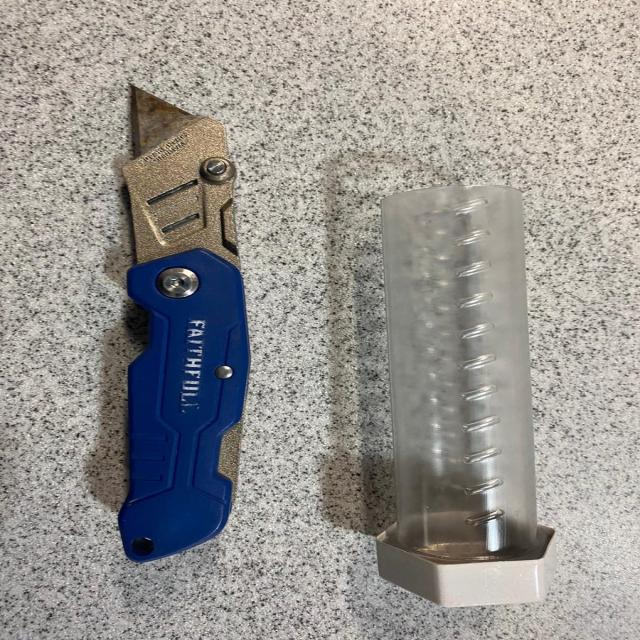Sharp-Object: (116, 81, 254, 565)
